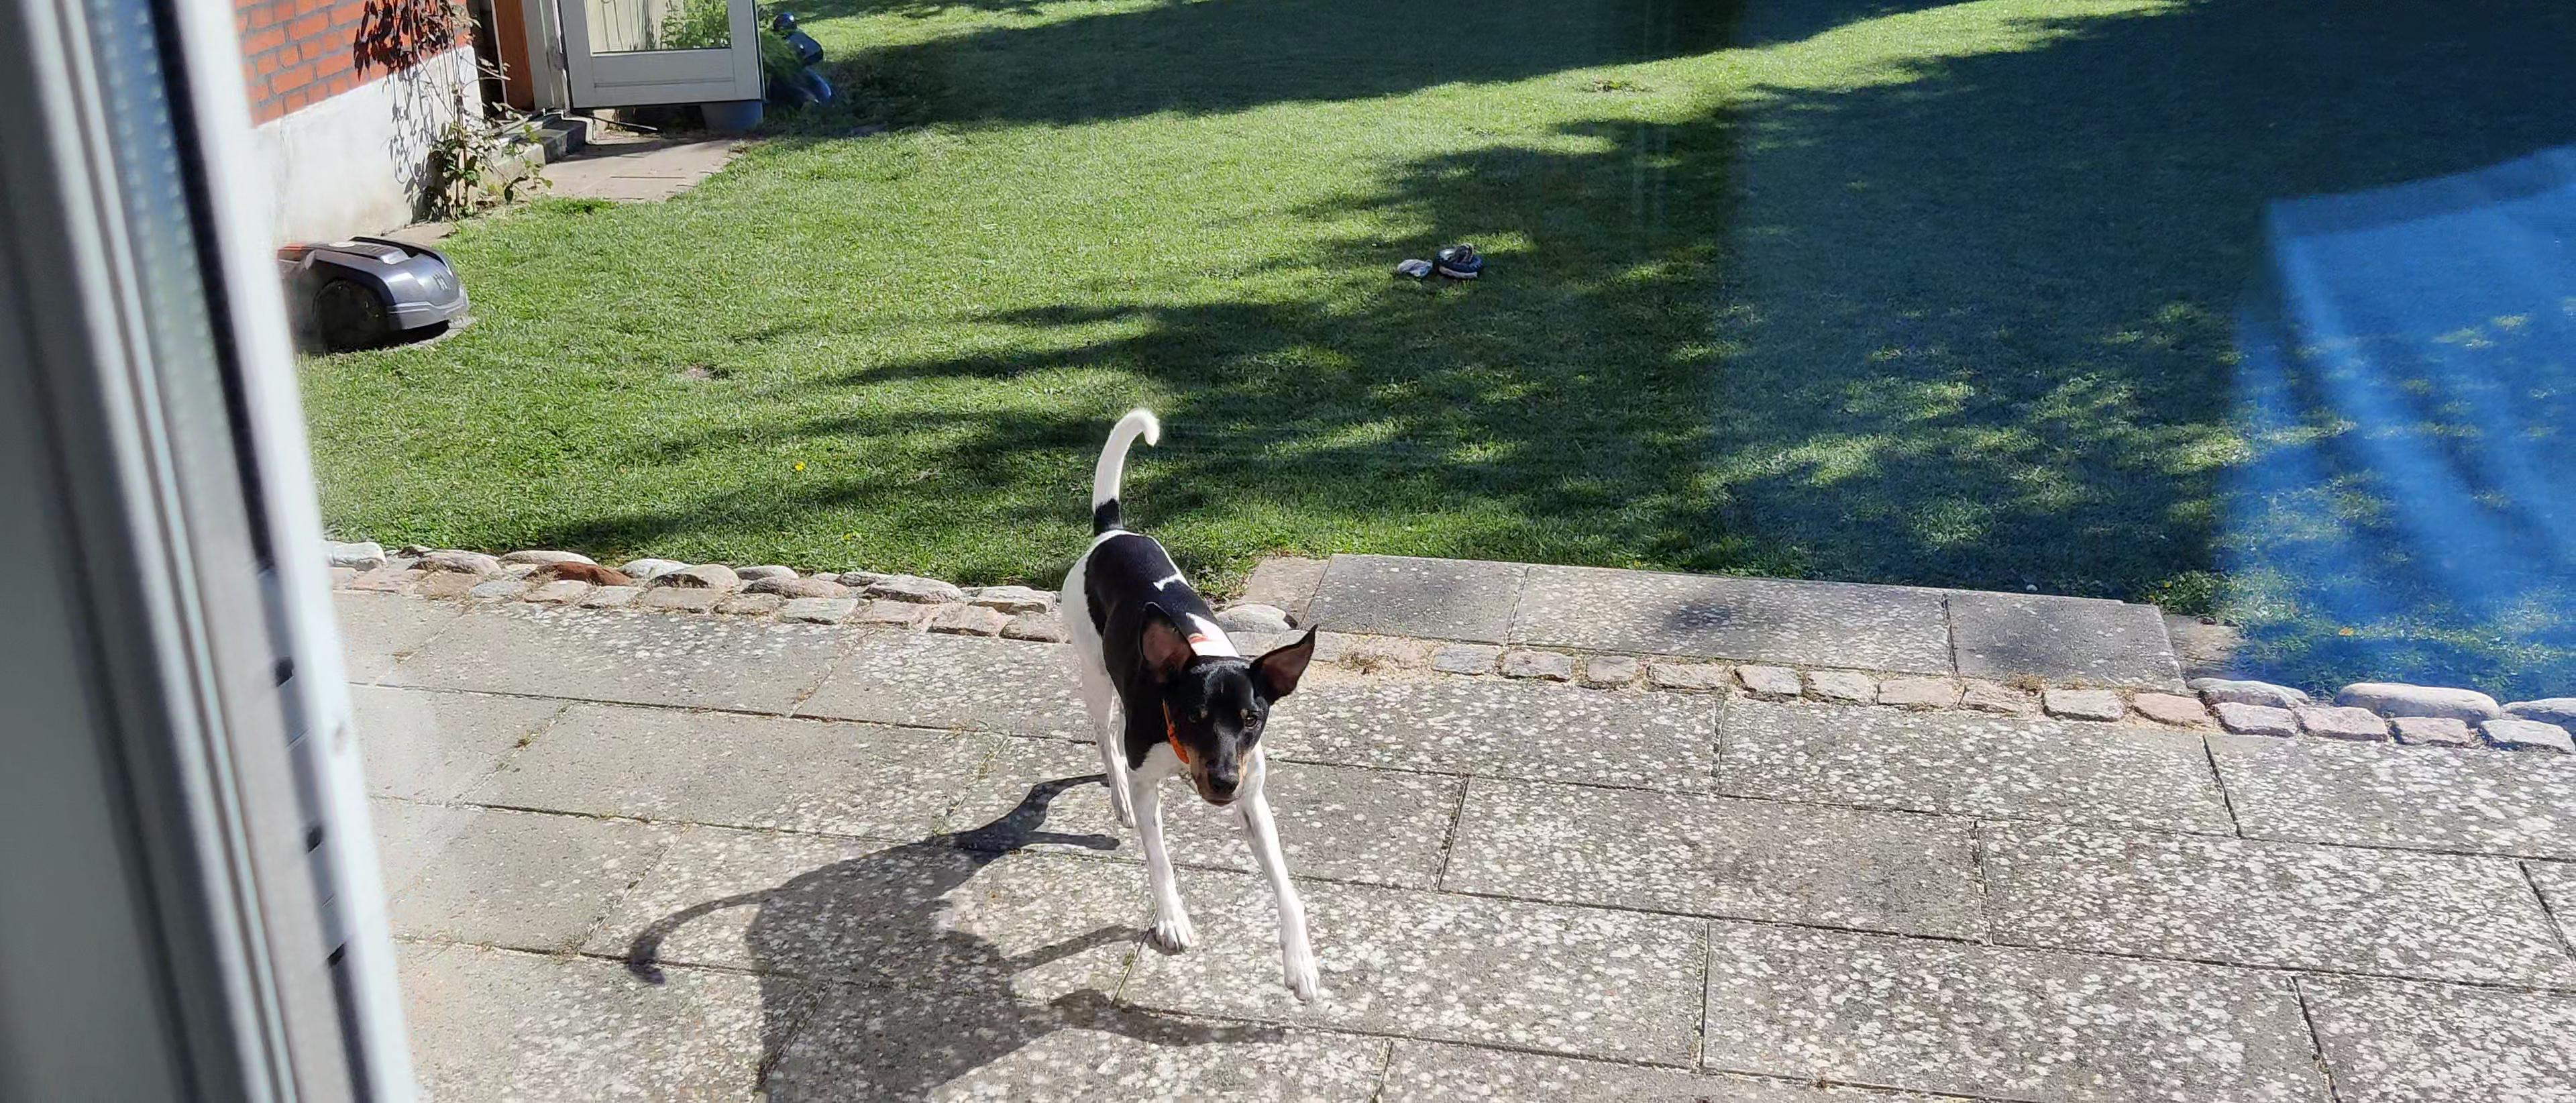Dog: (1048, 399, 1322, 1004)
